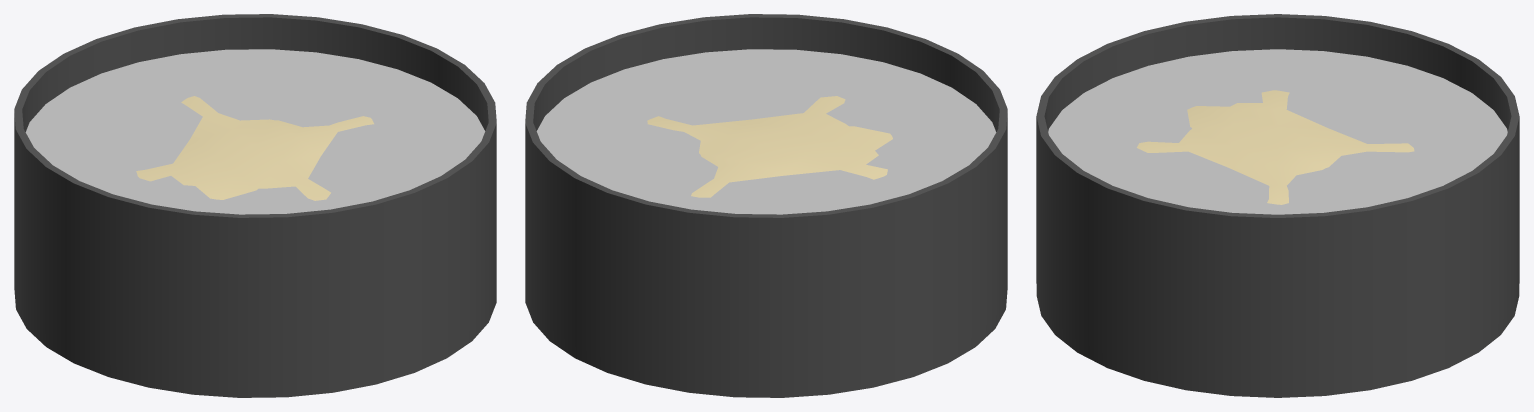
The model's file is cakebot.dae.
3 views of the same model, side by side, from view 1: azimuth 30°, elevation 25°; view 2: azimuth 150°, elevation 25°; view 3: azimuth 270°, elevation 25° (orthographic).
Parts seen in each view (by area): view 1: walls, CPart, dough, botto; view 2: walls, CPart, dough, botto; view 3: walls, CPart, dough, botto.
Boxes of the visible parts, box(x1,y1,x2,y2) form: walls: box(14, 14, 496, 385); CPart: box(25, 49, 485, 214); dough: box(136, 96, 373, 200); botto: box(14, 281, 496, 397); walls: box(525, 14, 1007, 385); CPart: box(536, 49, 996, 214); dough: box(647, 96, 892, 197); botto: box(525, 281, 1007, 397); walls: box(1036, 14, 1519, 385); CPart: box(1048, 49, 1507, 214); dough: box(1137, 90, 1414, 204); botto: box(1036, 285, 1519, 397).
Size of the model in its own units: 2.41 by 2.41 by 0.9886.
